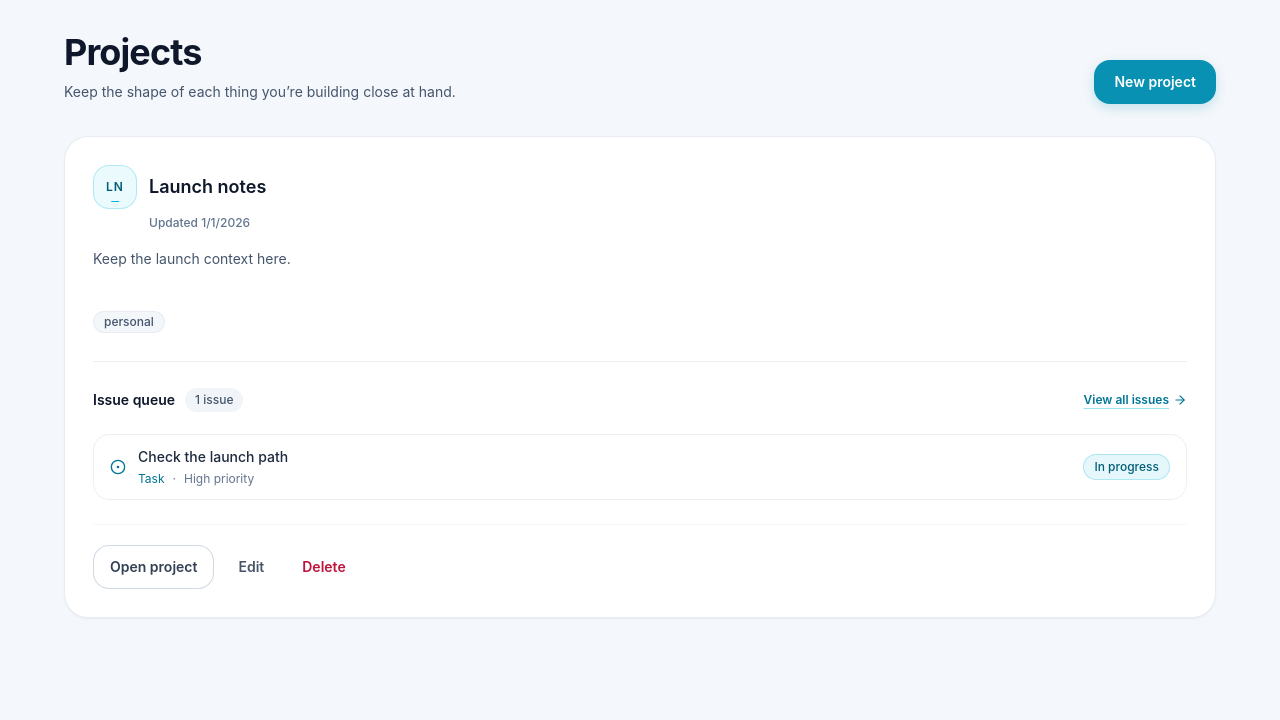
Test case: ProjectsPage › lists and creates a project through the service boundary
expect the link "Launch notes" is shown: met, box [149, 176, 266, 197]
expect the picture named "Launch notes project identity" is shown: met, box [93, 165, 137, 209]
Click the button "New project". click: (1155, 82)
box: [1094, 60, 1216, 104]
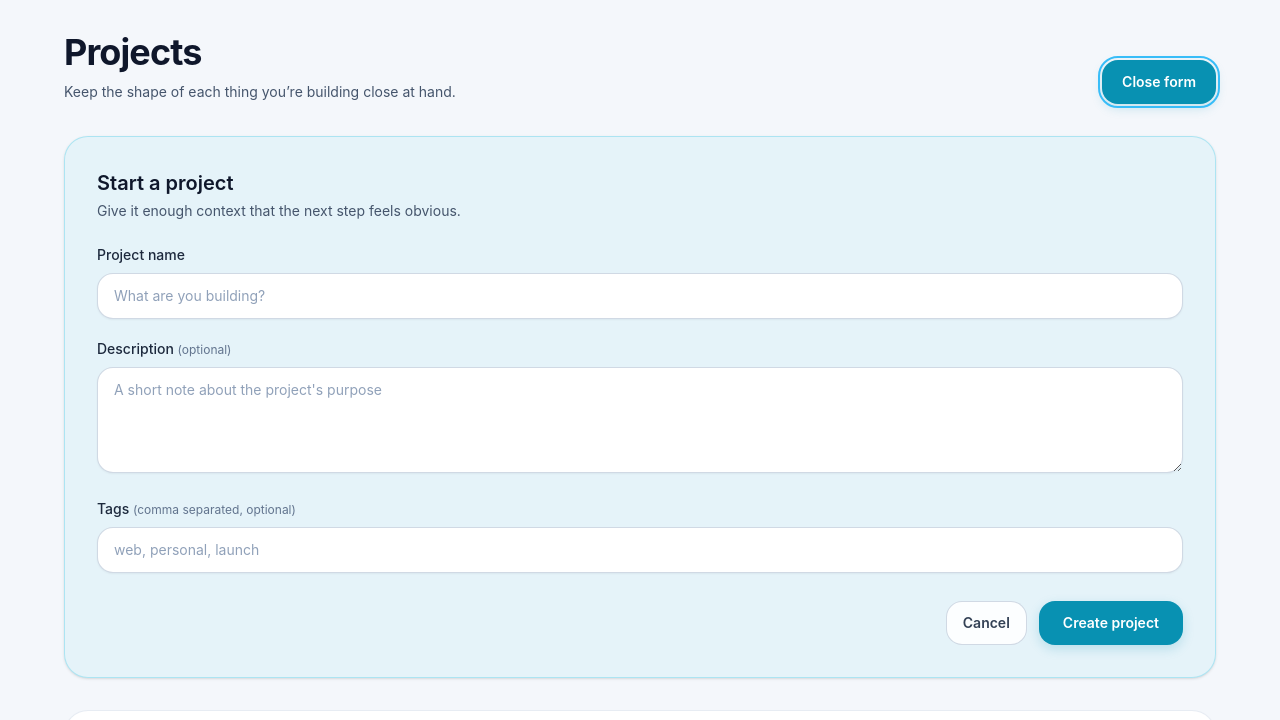
Type "Fresh idea" into the field labelled "Project name". click: (640, 296)
box: [97, 273, 1183, 319]
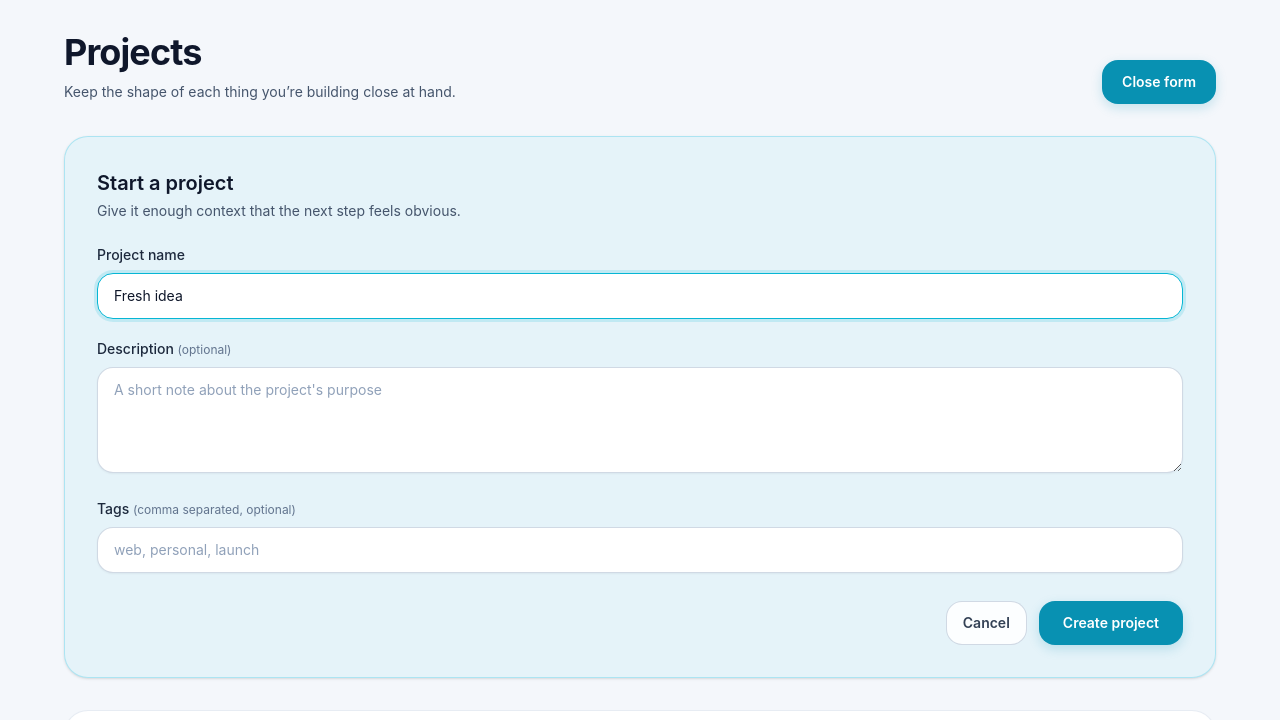
Type "web, mobile" into the field labelled "Tags (comma separated, optional)". click: (640, 550)
box: [97, 527, 1183, 573]
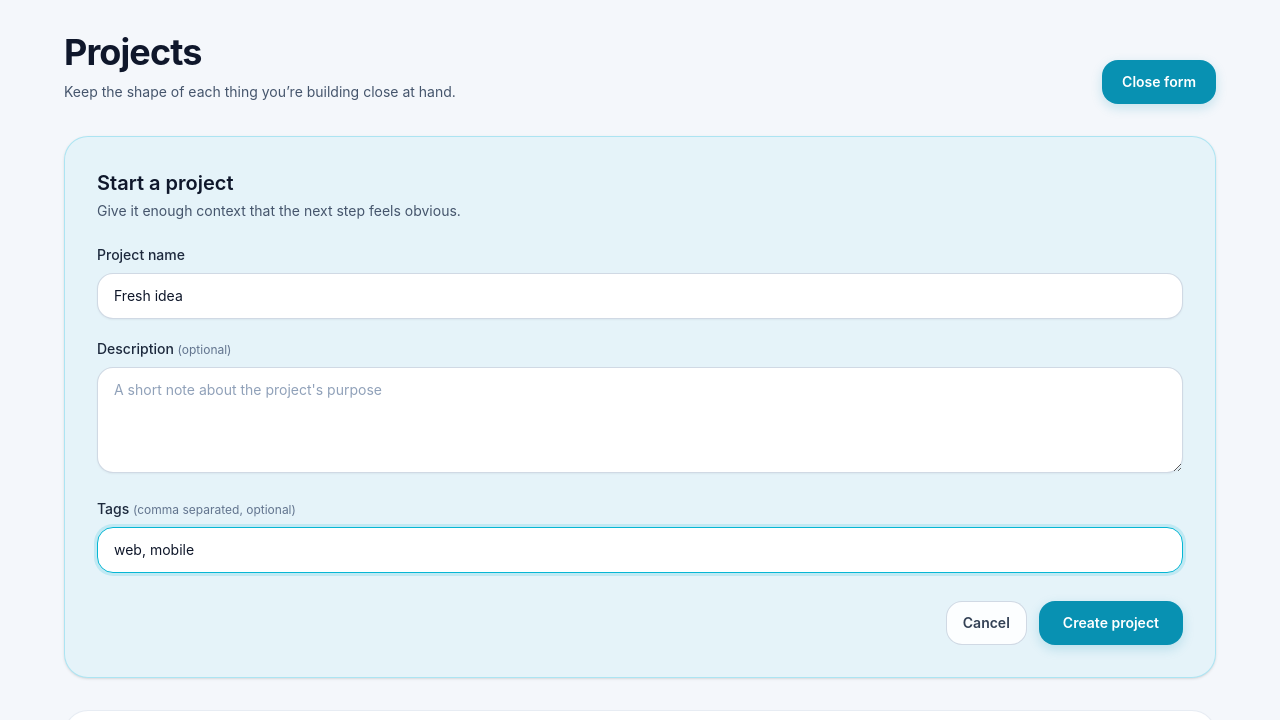
Click the button "Create project". click: (1111, 623)
box: [1039, 601, 1183, 645]
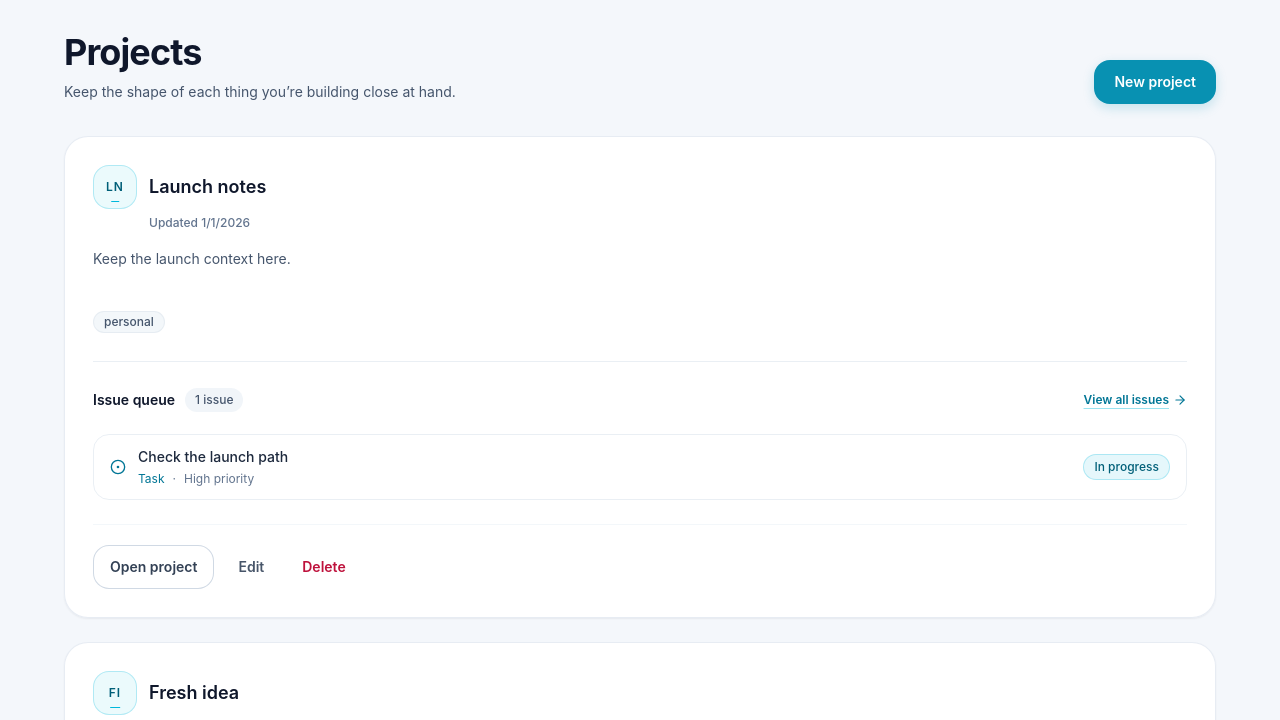
expect the link "Fresh idea" is shown: met, box [149, 682, 239, 703]
